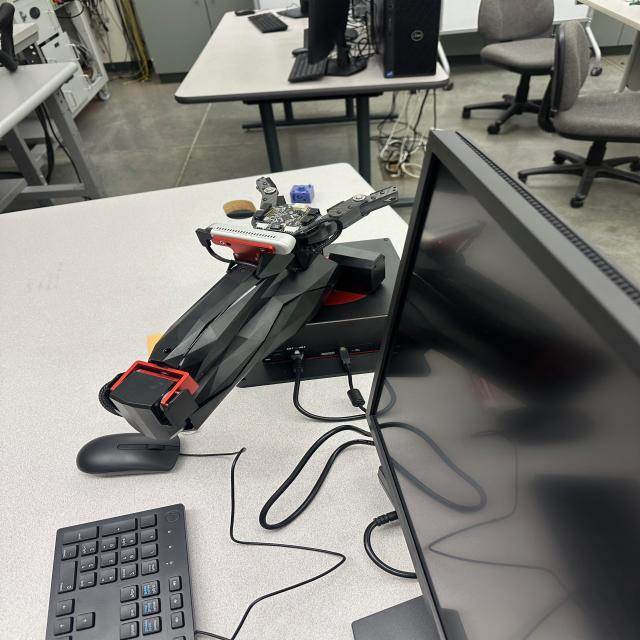monitor: (353, 131, 640, 640), (297, 0, 358, 65)
robotic-arm: (84, 172, 414, 442)
